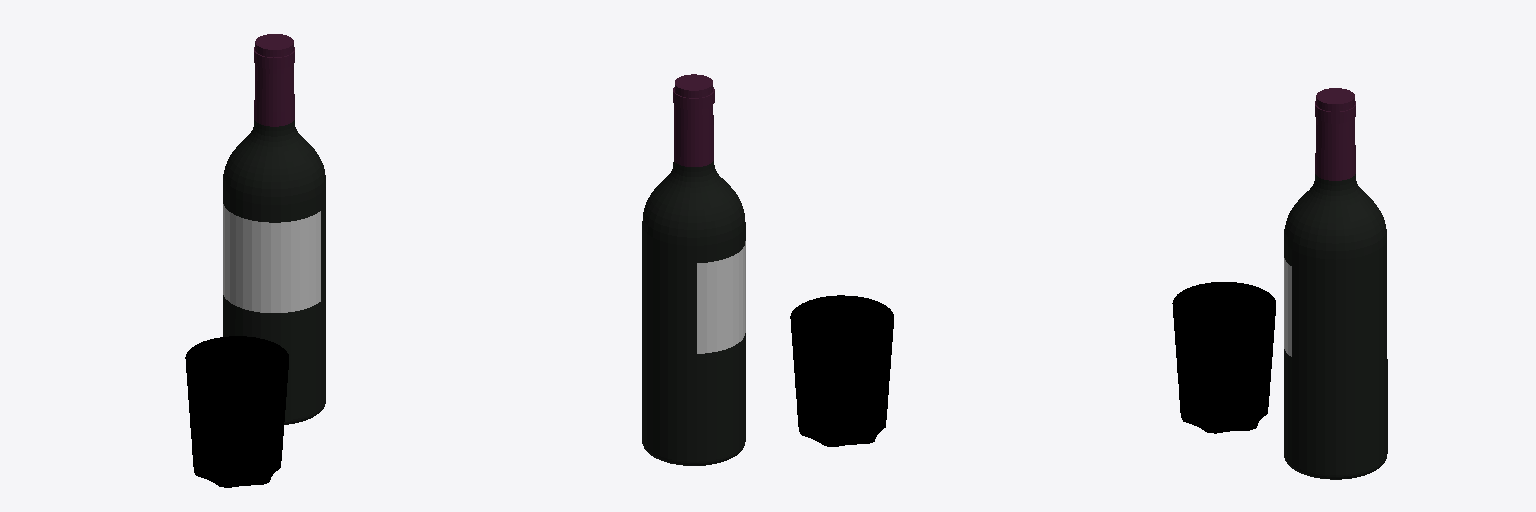
The model's file is wine_bottle.obj.
3 views of the same model, side by side, from view 1: azimuth 30°, elevation 25°; view 2: azimuth 150°, elevation 25°; view 3: azimuth 270°, elevation 25° (orthographic).
Parts seen in each view (by area): view 1: bottle_Mesh, glass_Plane.006, logo_bottle_Mesh.001, tap_Mesh.002; view 2: bottle_Mesh, glass_Plane.006, logo_bottle_Mesh.001, tap_Mesh.002; view 3: bottle_Mesh, glass_Plane.006, tap_Mesh.002, logo_bottle_Mesh.001.
Boxes of the visible parts, <box> form: bottle_Mesh: <box>223,120,325,424</box>; glass_Plane.006: <box>185,336,288,487</box>; logo_bottle_Mesh.001: <box>223,204,320,312</box>; tap_Mesh.002: <box>254,34,294,126</box>; bottle_Mesh: <box>642,161,745,465</box>; glass_Plane.006: <box>790,295,893,446</box>; logo_bottle_Mesh.001: <box>697,241,745,353</box>; tap_Mesh.002: <box>673,74,714,166</box>; bottle_Mesh: <box>1284,174,1387,479</box>; glass_Plane.006: <box>1172,282,1275,433</box>; tap_Mesh.002: <box>1315,88,1355,180</box>; logo_bottle_Mesh.001: <box>1284,258,1291,356</box>.
Bounding box in the file's own units: 1.54 × 2.93 × 1.57.